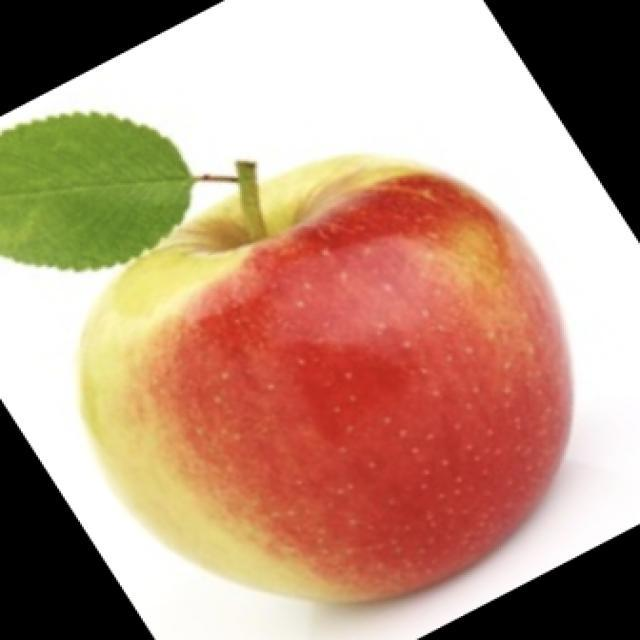Fresh Apple: (93, 165, 582, 593)
